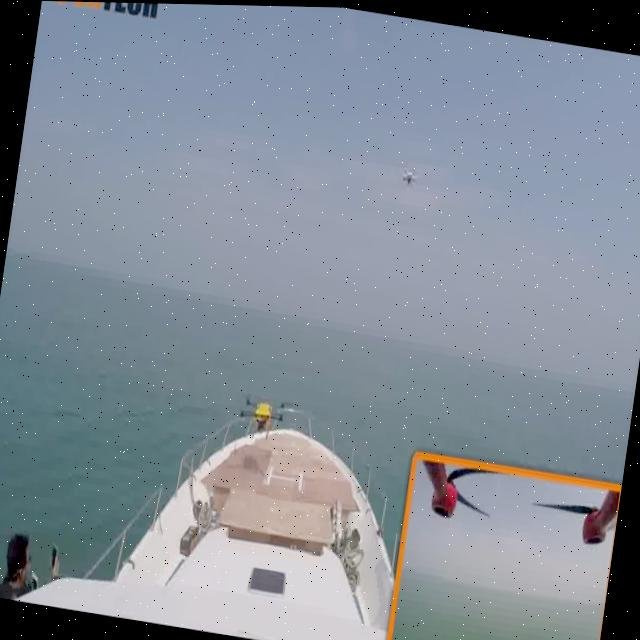drone: (228, 375, 298, 440), (391, 147, 426, 197)
